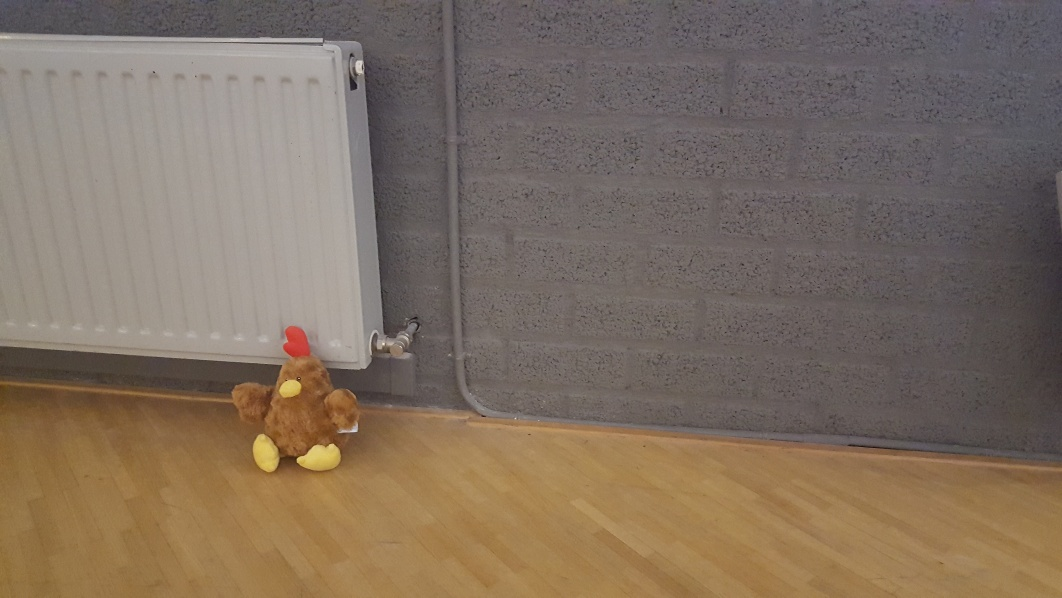chicken: (232, 323, 359, 476)
